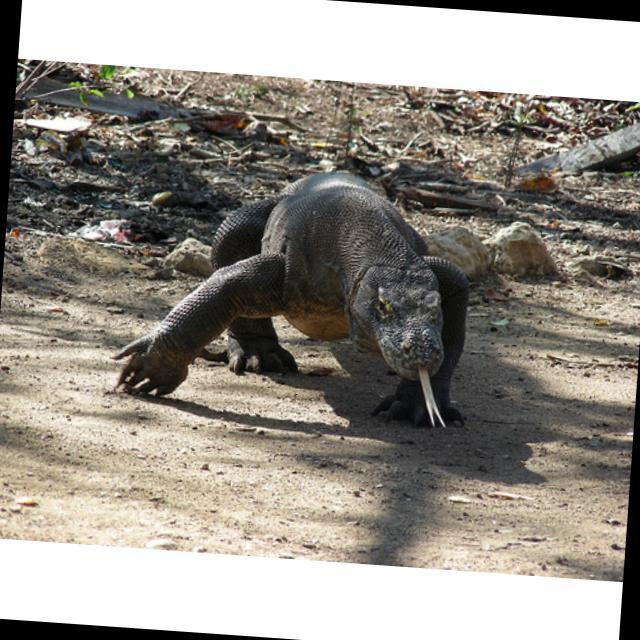KomodoDragon: (105, 154, 476, 426)
